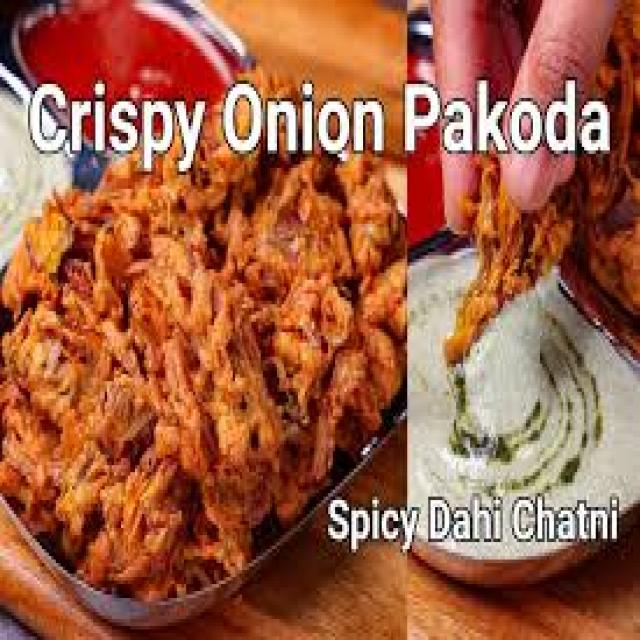BAJI: (0, 156, 405, 598), (30, 3, 95, 149), (163, 52, 214, 91)
